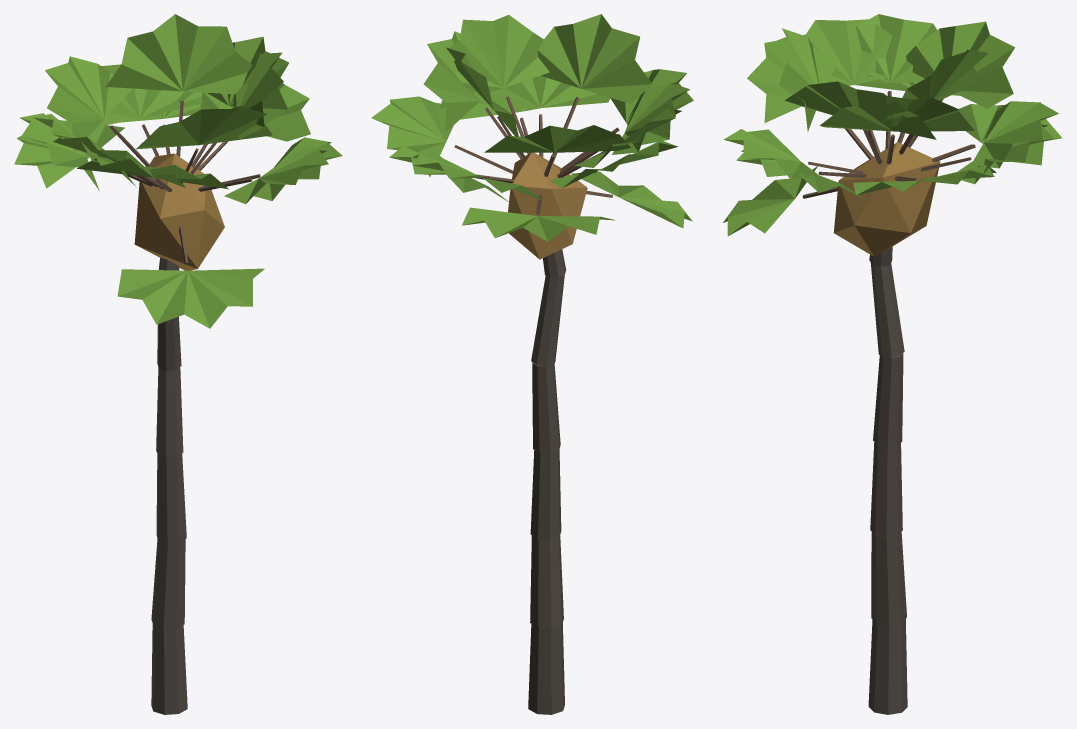
Rendered from ENV_SugarPalm.fbx.
The picture shows the model from 3 angles, left to right: view 1: azimuth 30°, elevation 25°; view 2: azimuth 150°, elevation 25°; view 3: azimuth 270°, elevation 25°; orthographic projection. The views are drawn at different scales.
Parts seen in each view (by area): view 1: ENV_SugarPalm; view 2: ENV_SugarPalm; view 3: ENV_SugarPalm.
Part boxes in pixels (x1,y1,x2,y2): ENV_SugarPalm: [14, 14, 342, 714]; ENV_SugarPalm: [371, 14, 693, 714]; ENV_SugarPalm: [723, 14, 1062, 714].
Bounding box in the file's own units: 5.09 × 11.49 × 5.21.
